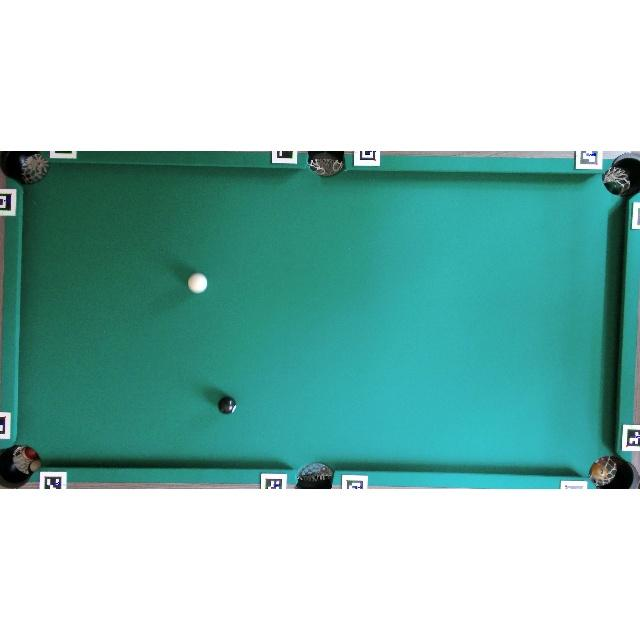cue ball: (186, 272, 208, 293)
other: (217, 394, 237, 414)
